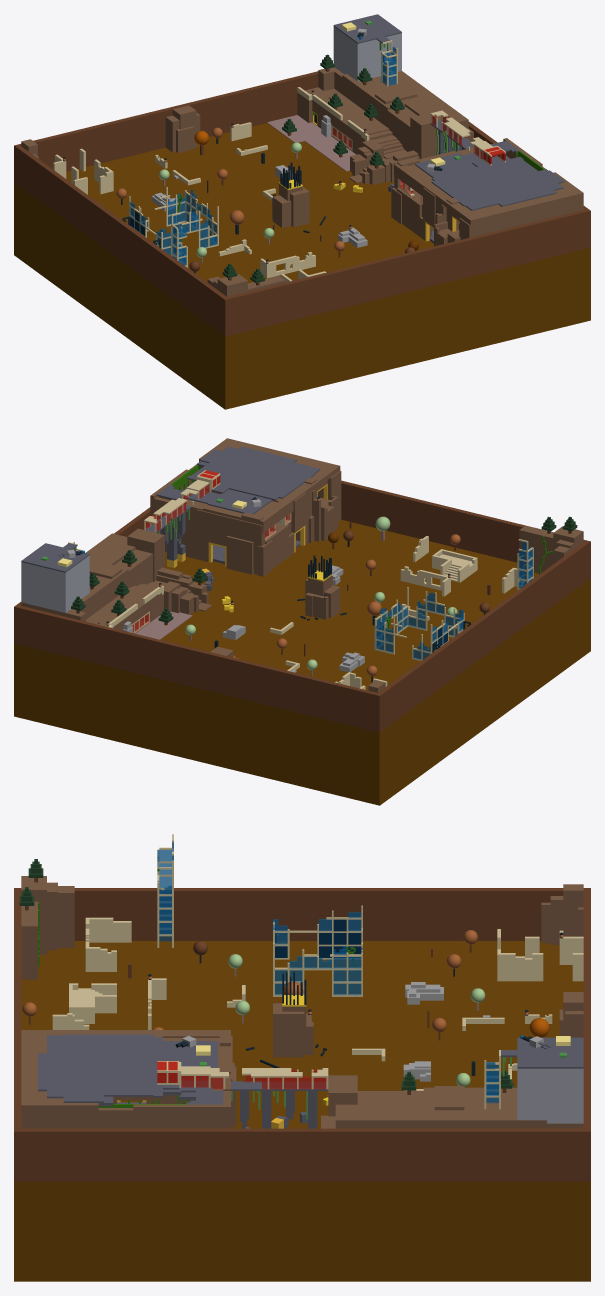
The model's file is new_glass_houses.glb.
3 views of the same model, one above another, from view 1: azimuth 30°, elevation 25°; view 2: azimuth 150°, elevation 25°; view 3: azimuth 270°, elevation 25° (orthographic). The views are drawn at different scales.
Parts seen in each view (by area): view 1: Part360, Part359, Part358, Part253, Part91, Part148, Part202, Part191, Part804, Part144, Part199, Part200 (+14 smaller); view 2: Part360, Part253, Part358, Part359, Part91, Part803, Part202, Part53, Part191, Part356, Part246, Part144 (+16 smaller); view 3: Part360, Part57, Part358, Part91, Part254, Part200, Part241, Part53, Part253, Part199, Part803, Part359 (+23 smaller).
Part boxes in pixels (box(x1,y1,x2,y2)): Part360: box(14, 123, 590, 409); Part359: box(222, 209, 590, 335); Part358: box(14, 146, 229, 336); Part253: box(14, 71, 318, 183); Part91: box(431, 159, 554, 206); Part148: box(471, 188, 582, 236); Part202: box(330, 67, 468, 151); Part191: box(305, 87, 389, 145); Part804: box(347, 33, 401, 81); Part144: box(420, 179, 564, 225); Part199: box(342, 71, 435, 110); Part200: box(372, 71, 468, 124); Part360: box(14, 520, 590, 805); Part253: box(14, 605, 382, 732); Part358: box(375, 541, 590, 731); Part359: box(341, 480, 590, 562); Part91: box(192, 452, 315, 498); Part803: box(21, 562, 78, 612); Part202: box(21, 549, 152, 619); Part53: box(200, 449, 314, 485); Part191: box(86, 587, 158, 630); Part356: box(519, 525, 553, 573); Part246: box(150, 497, 208, 561); Part144: box(194, 443, 340, 508); Part360: box(14, 941, 590, 1281); Part57: box(129, 1128, 590, 1181); Part358: box(14, 888, 590, 940); Part91: box(63, 1034, 153, 1096); Part254: box(14, 1128, 107, 1181); Part200: box(335, 1099, 528, 1125); Part241: box(133, 1104, 230, 1128); Part53: box(63, 1034, 103, 1102); Part253: box(583, 888, 590, 1181); Part199: box(423, 1087, 546, 1125); Part803: box(547, 1068, 583, 1123); Part359: box(14, 888, 21, 1180).
Size of the model in its own units: 3.14 by 1.31 by 3.14.
